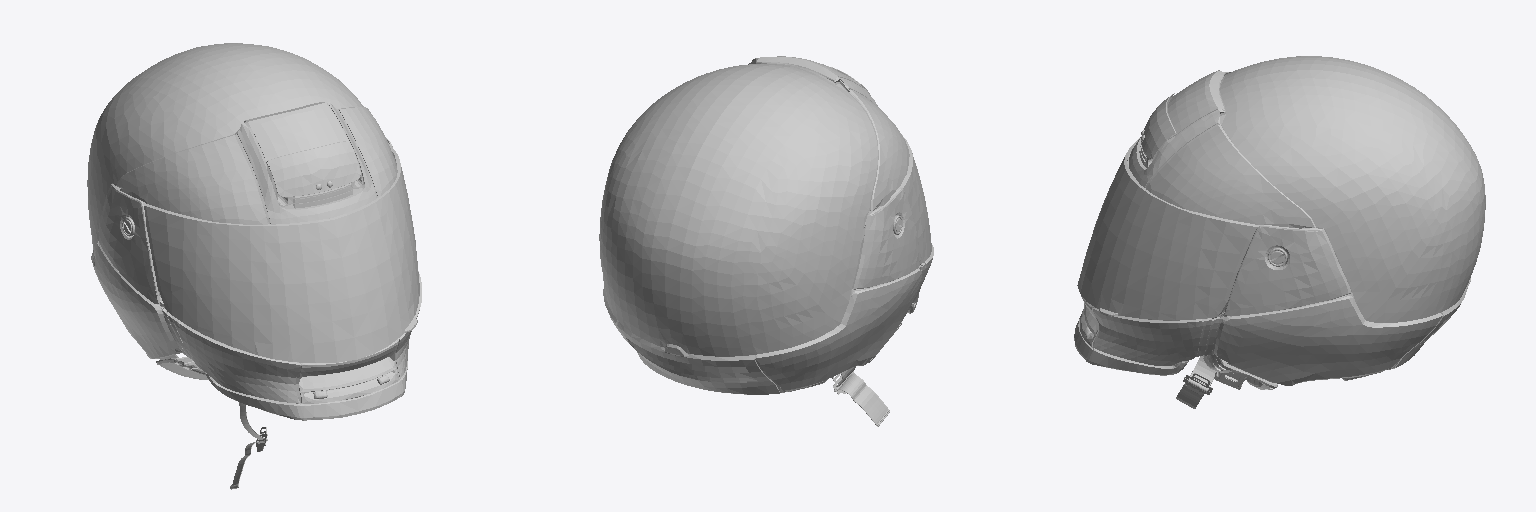
The model's file is helmet.obj.
3 renders of one model, left to right at view 1: azimuth 30°, elevation 25°; view 2: azimuth 150°, elevation 25°; view 3: azimuth 270°, elevation 25°, orthographic.
Visible parts, largest first — view 1: _null_; view 2: _null_; view 3: _null_.
Boxes of the visible parts, box(x1,y1,x2,y2) form: _null_: box(87, 43, 421, 489); _null_: box(599, 56, 933, 426); _null_: box(1074, 56, 1485, 408).
Bounding box in the file's own units: 42.34 × 56.84 × 57.01.